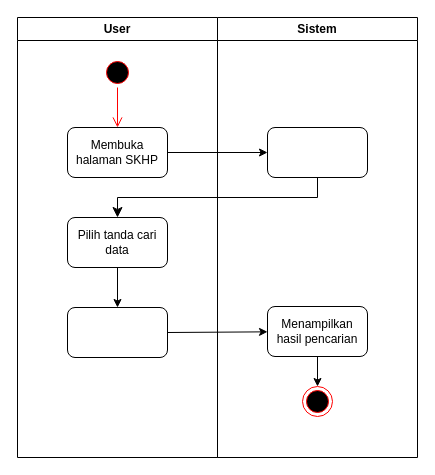
Some shapes in this 435 by 475 pixel diagram are drawn without their labels. Here are the shapes that lost their labels. From the top down, the centre of each, then its label:
point 317,152: Menampilkan halaman unit
point 117,332: Tulis kata kunci yang ingin dicari
